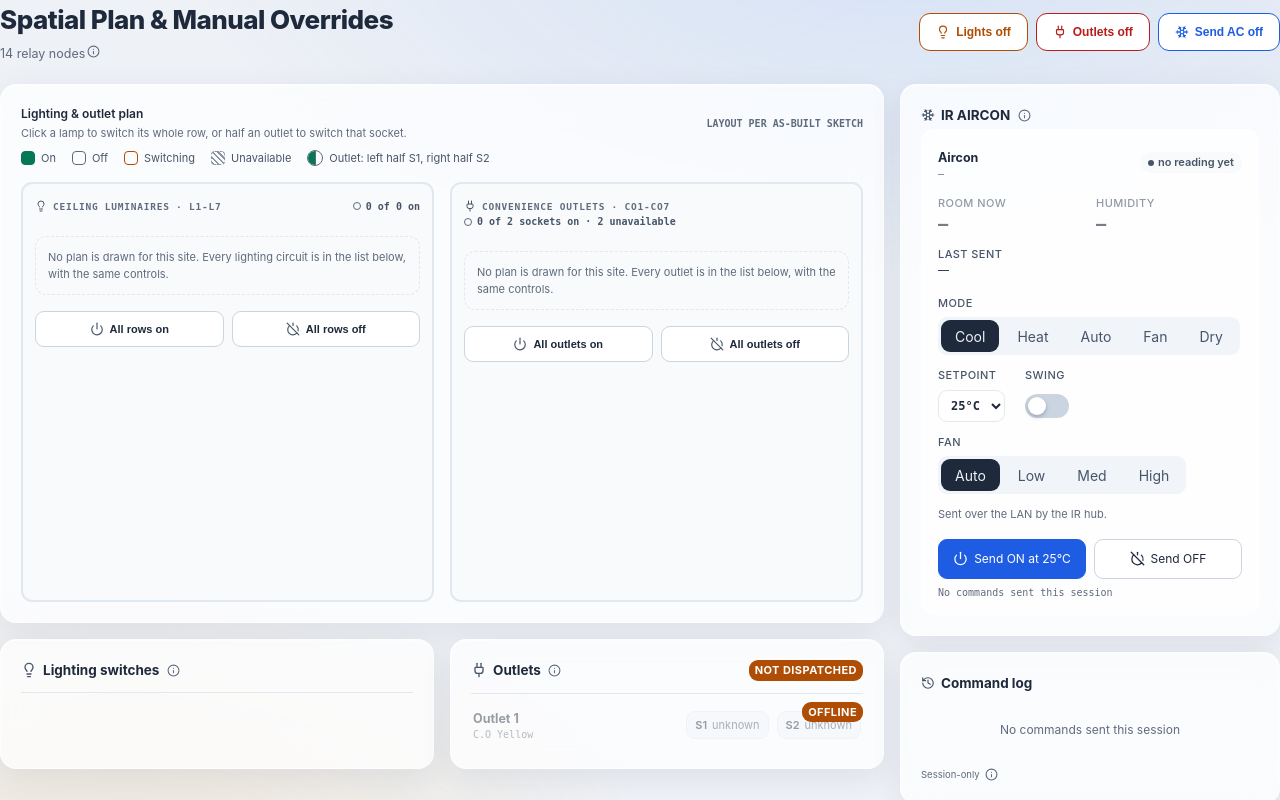
ControlPage › cancelling the confirmation sends nothing
The image size is (1280, 800).
Click the button "Outlets off" at {"x": 1093, "y": 32}, box [1036,13,1150,51]
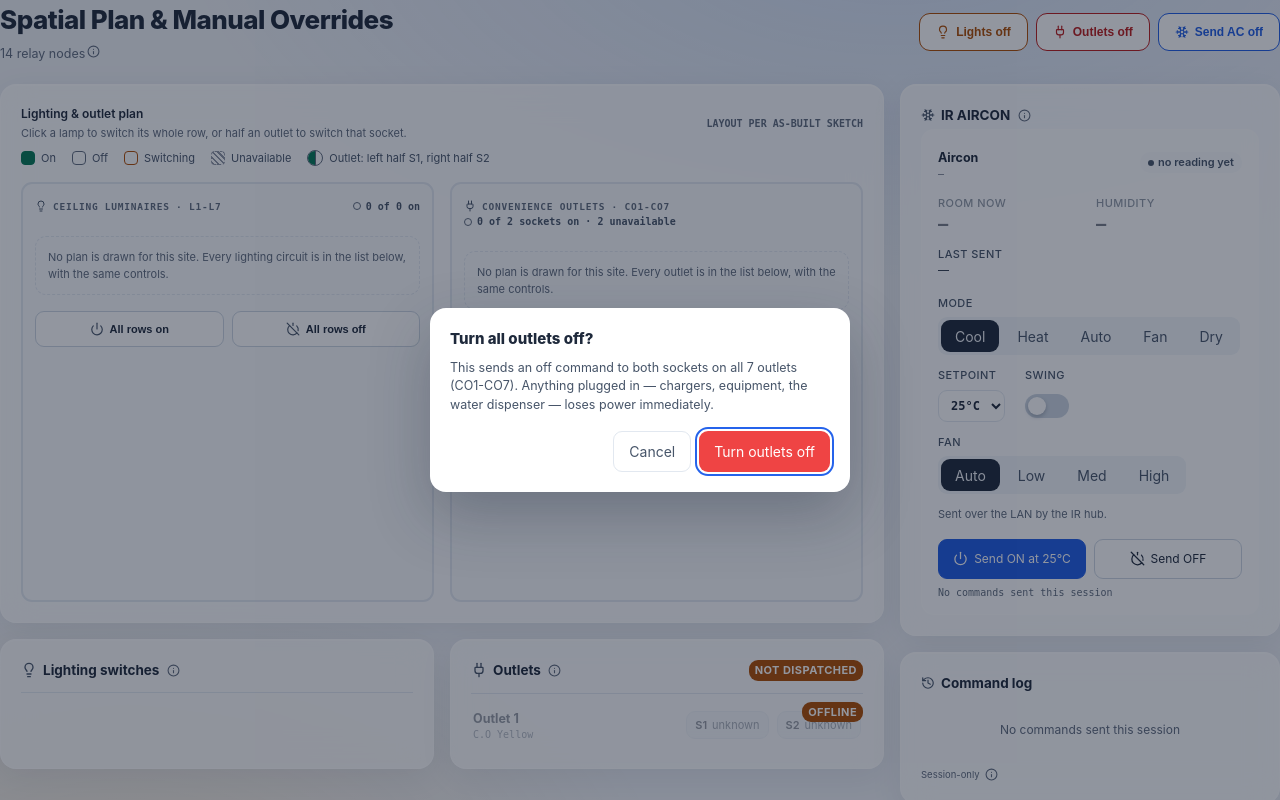
Click the button "Cancel" at {"x": 652, "y": 451}, box [613,431,691,472]
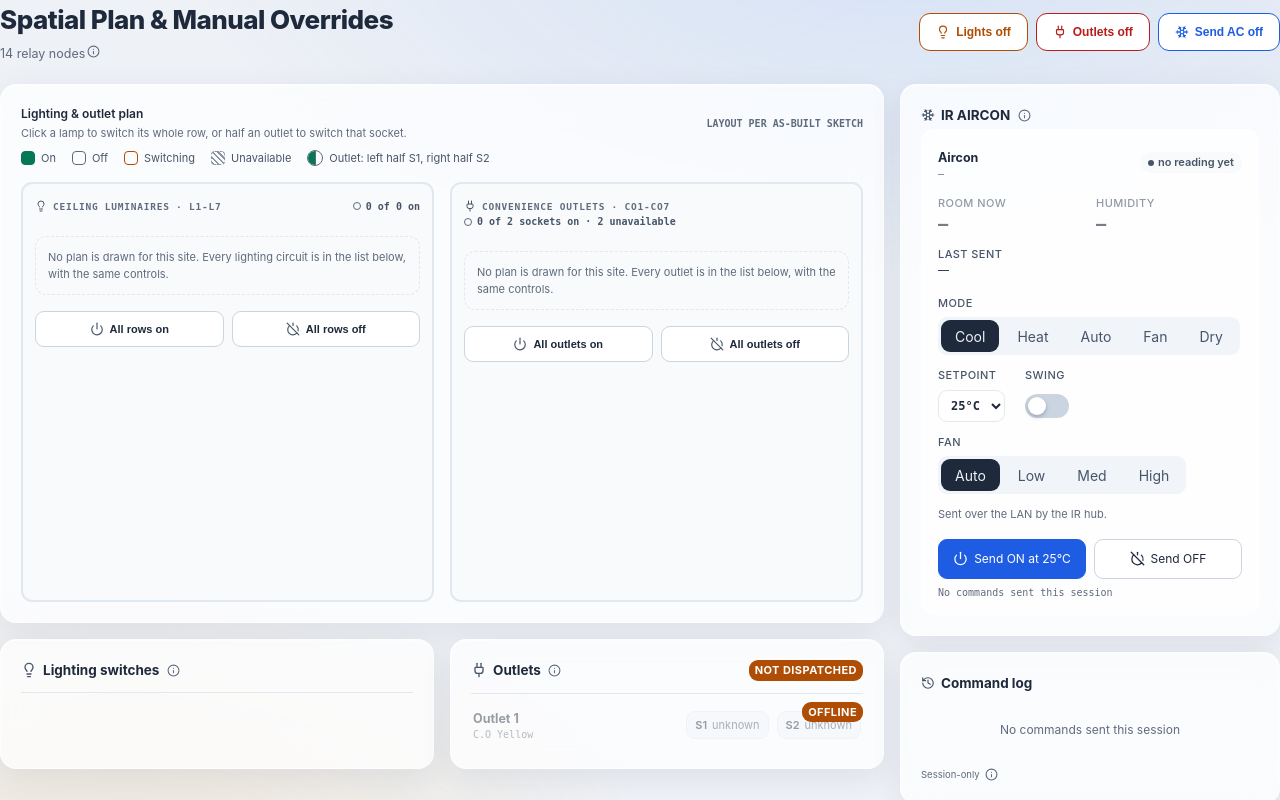
Now the dialog is gone
